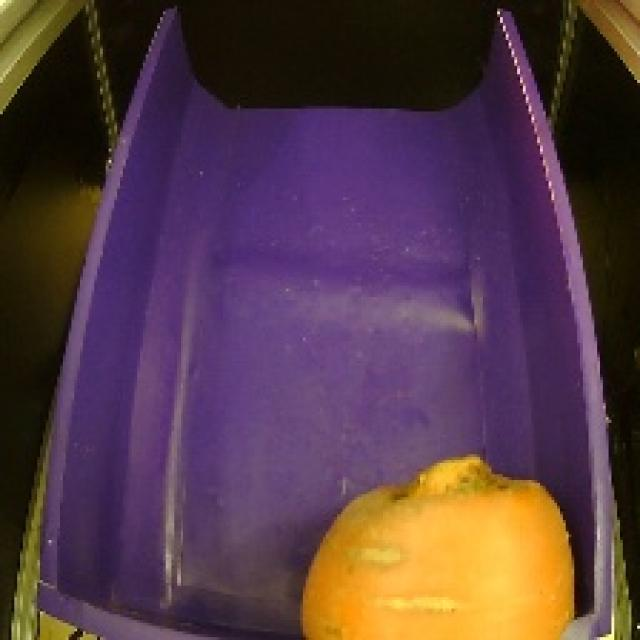carrots: (284, 449, 588, 640)
